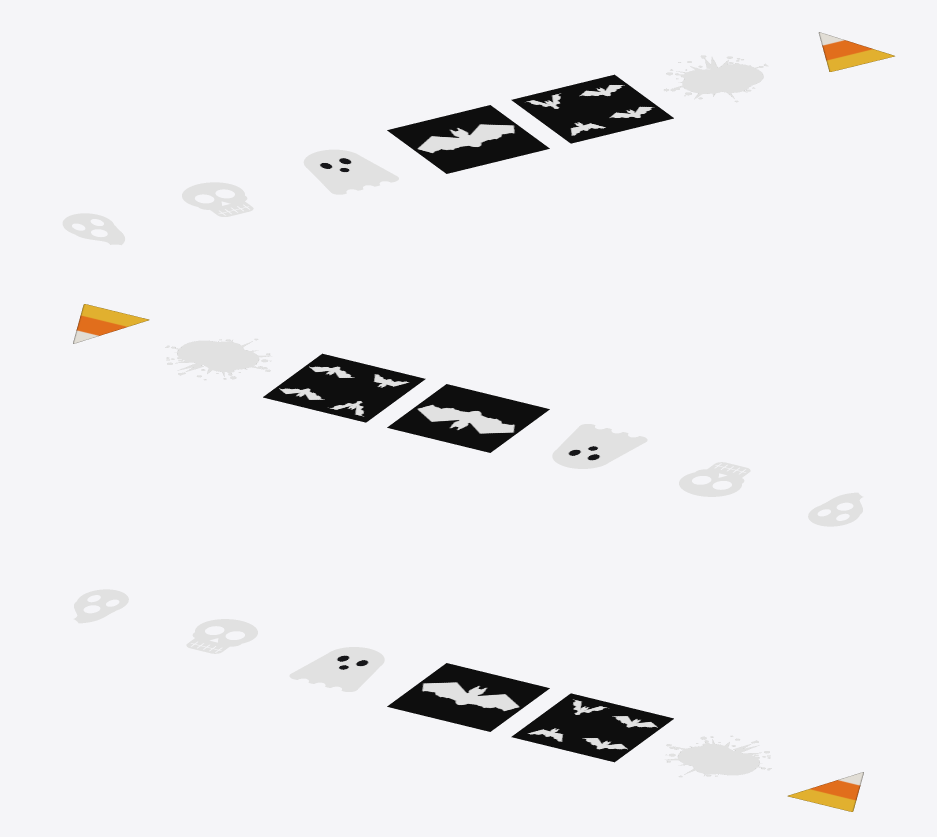
The model's file is HalloweenSprites.fbx.
3 views of the same model, one above another, from view 1: azimuth 30°, elevation 25°; view 2: azimuth 150°, elevation 25°; view 3: azimuth 330°, elevation 25° (orthographic).
Visible parts, largest first — view 1: SpriteBatFlap, SpriteBat, SpriteGhostSheet, SpriteInkSplat, SpriteCandyCorn, SpriteSkull, SpriteSoulWisp; view 2: SpriteBatFlap, SpriteBat, SpriteGhostSheet, SpriteInkSplat, SpriteCandyCorn, SpriteSkull, SpriteSoulWisp; view 3: SpriteBatFlap, SpriteBat, SpriteGhostSheet, SpriteInkSplat, SpriteCandyCorn, SpriteSkull, SpriteSoulWisp.
Boxes of the visible parts, x1,y1,x2,y2 form: SpriteBatFlap: [511, 74, 673, 143]; SpriteBat: [387, 105, 549, 173]; SpriteGhostSheet: [303, 149, 398, 194]; SpriteInkSplat: [663, 55, 767, 102]; SpriteCandyCorn: [818, 32, 894, 71]; SpriteSkull: [182, 182, 253, 216]; SpriteSoulWisp: [62, 213, 124, 245]; SpriteBatFlap: [263, 353, 425, 422]; SpriteBat: [387, 384, 549, 452]; SpriteGhostSheet: [552, 424, 647, 468]; SpriteInkSplat: [165, 338, 271, 380]; SpriteCandyCorn: [73, 304, 149, 343]; SpriteSkull: [679, 462, 750, 496]; SpriteSoulWisp: [808, 492, 863, 526]; SpriteBatFlap: [511, 693, 673, 762]; SpriteBat: [387, 663, 549, 731]; SpriteGhostSheet: [289, 647, 384, 691]; SpriteInkSplat: [665, 735, 771, 777]; SpriteCandyCorn: [787, 772, 863, 811]; SpriteSkull: [186, 619, 257, 653]; SpriteSoulWisp: [73, 589, 128, 623].
Bounding box in the file's own units: 820 × 1.63e-05 × 100.
Materials: 7 (7 with a texture image).
